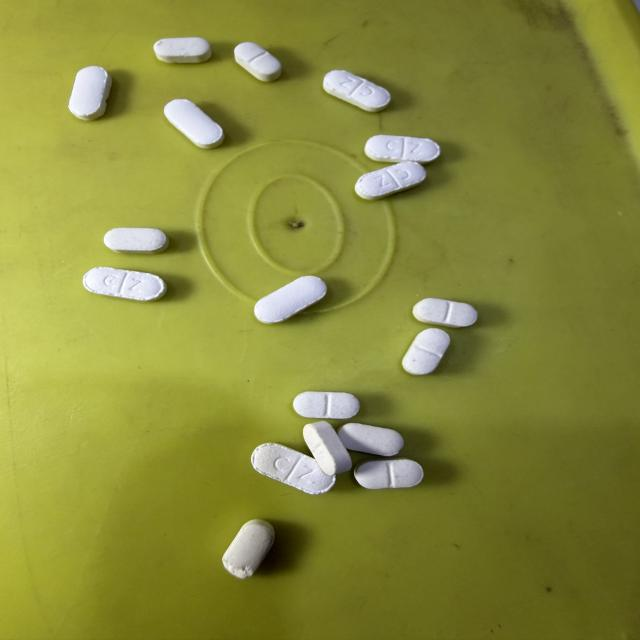pill: (252, 443, 335, 494), (255, 276, 326, 323), (223, 520, 275, 578), (164, 99, 224, 148), (83, 267, 166, 301), (323, 70, 390, 112), (355, 161, 426, 199), (303, 421, 351, 475), (69, 66, 111, 120), (338, 423, 404, 456), (402, 329, 449, 375), (365, 135, 440, 163), (355, 459, 423, 489), (413, 298, 477, 327), (235, 42, 281, 81), (293, 392, 359, 419), (104, 228, 169, 253), (154, 38, 211, 63)
